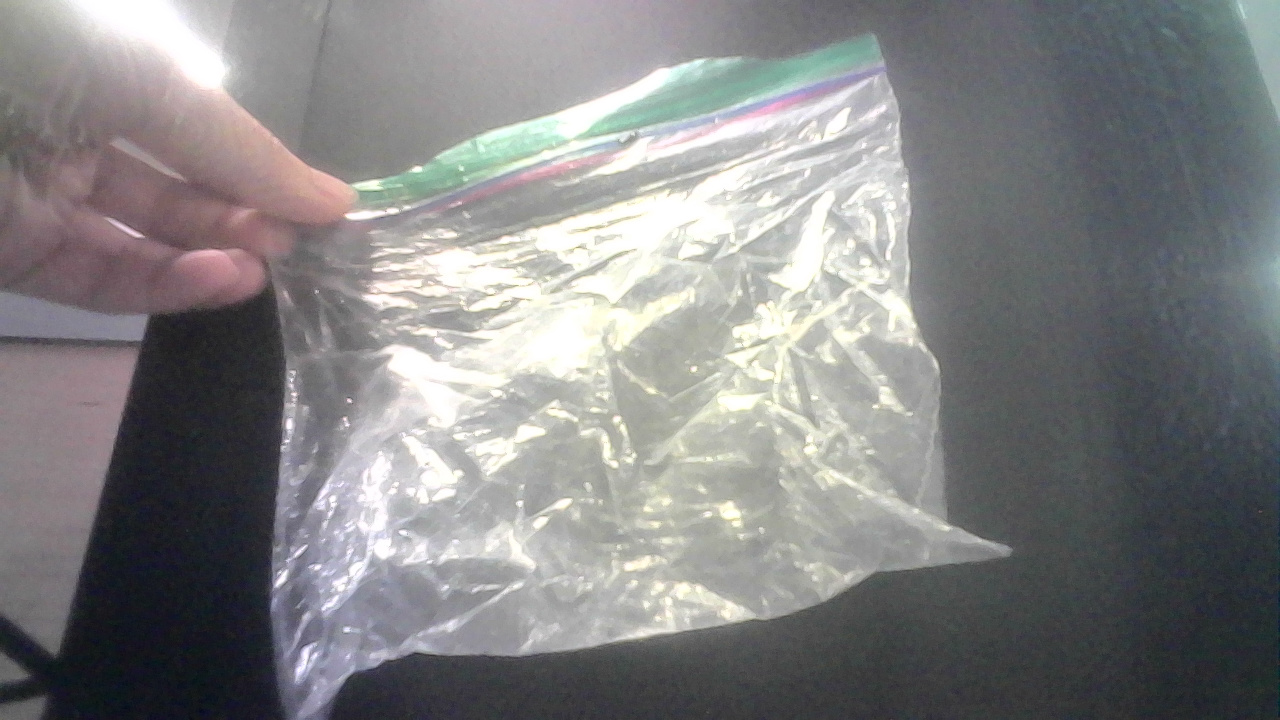Plastic_Recycling: (269, 14, 949, 720)
